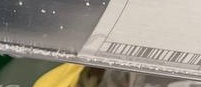1d: (103, 40, 201, 68)
